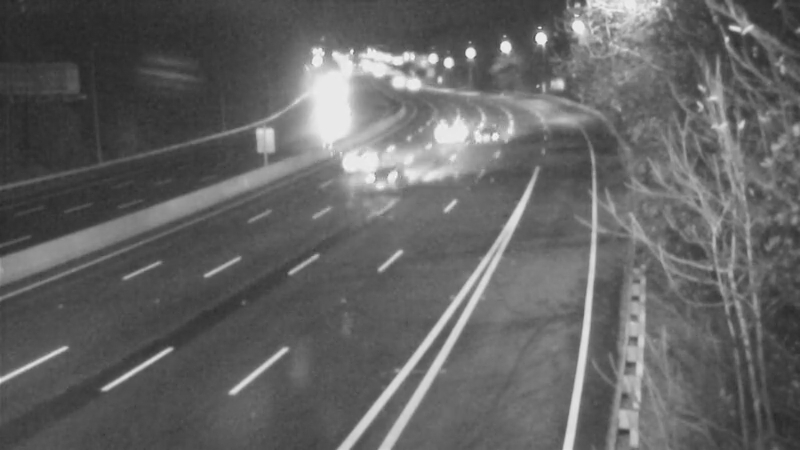vehicle: (317, 123, 397, 203), (343, 138, 423, 218), (372, 57, 422, 107), (387, 57, 437, 107), (427, 103, 477, 153), (461, 111, 511, 161)
